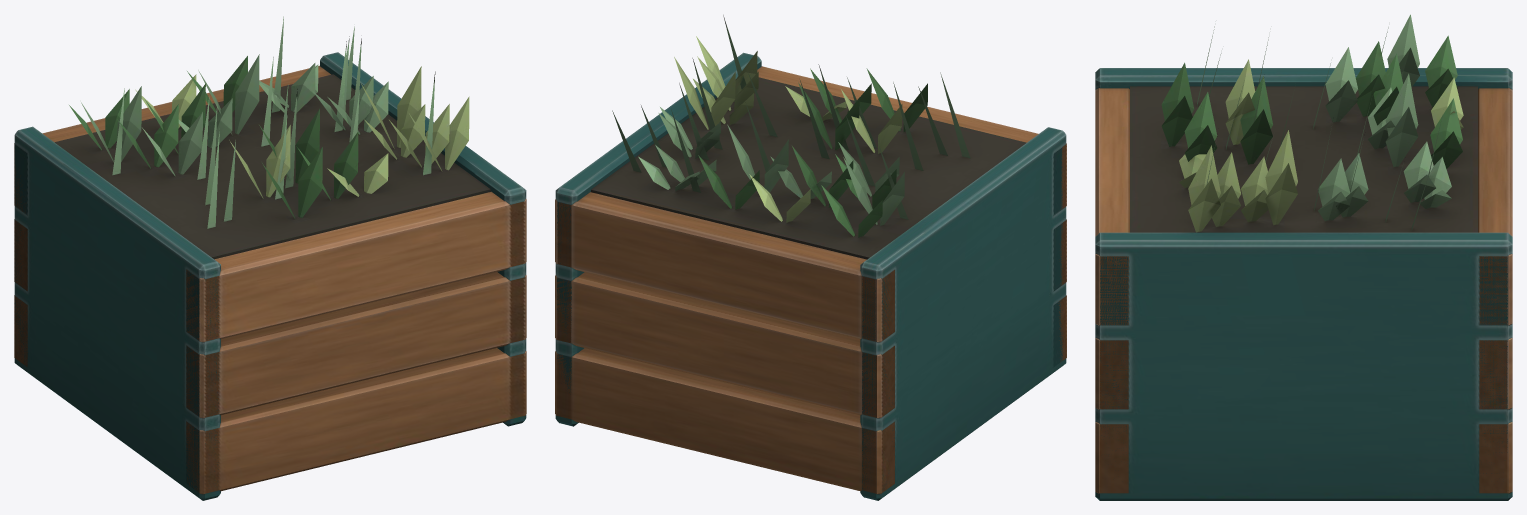
File: kit_cover_planter.glb
3 renders of one model, left to right at view 1: azimuth 30°, elevation 25°; view 2: azimuth 150°, elevation 25°; view 3: azimuth 270°, elevation 25°, orthographic. The views are drawn at different scales.
Visible parts, largest first — view 1: kit_cover_planter_mesh; view 2: kit_cover_planter_mesh; view 3: kit_cover_planter_mesh.
Part boxes in pixels (x1,y1,x2,y2): kit_cover_planter_mesh: [14, 16, 526, 500]; kit_cover_planter_mesh: [555, 15, 1066, 500]; kit_cover_planter_mesh: [1095, 14, 1512, 500].
Bounding box in the file's own units: 0.9 × 0.8505 × 0.9.
Materials: 1 (1 with a texture image).
